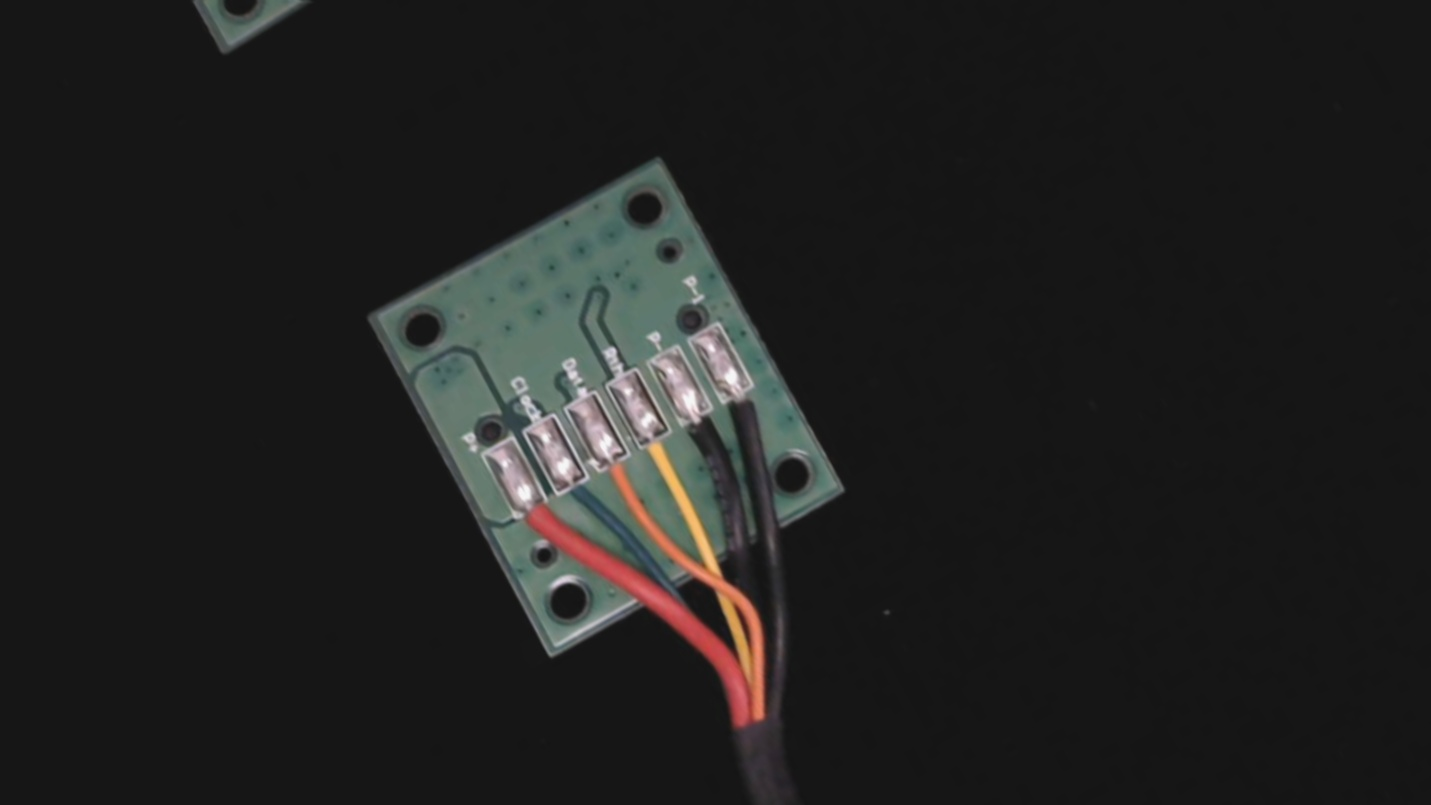Black: (662, 382, 750, 478)
Black1: (707, 361, 790, 451)
Green: (541, 454, 617, 536)
Orange: (583, 431, 667, 526)
Red: (499, 478, 584, 572)
Yellow: (619, 409, 707, 507)
